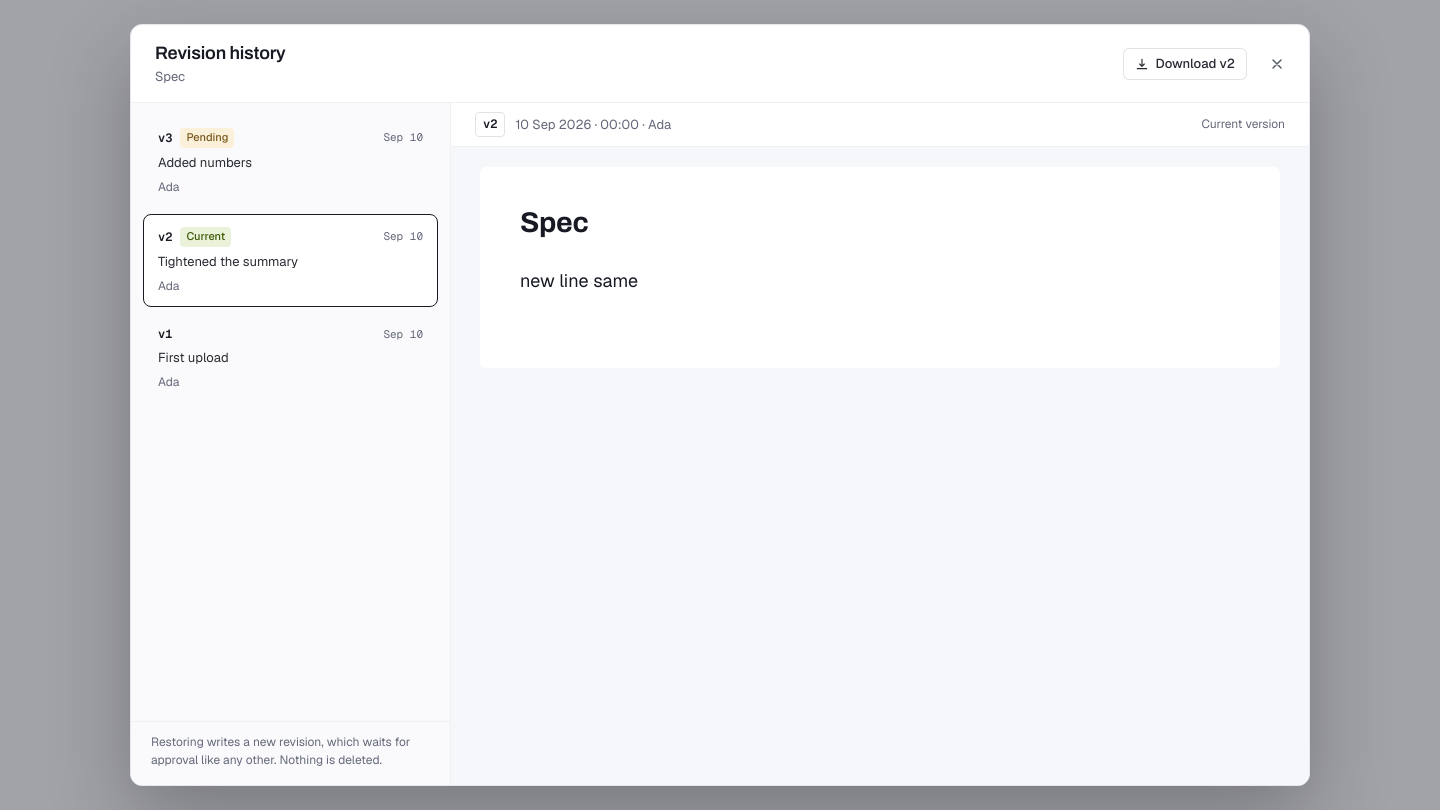
it: HistoryDialog › says a restore is current at once when the server published it, as a Personal Workspace does
Click the button "v1 Sep 10 First upload Ada" at (403, 334), box [143, 313, 438, 404]
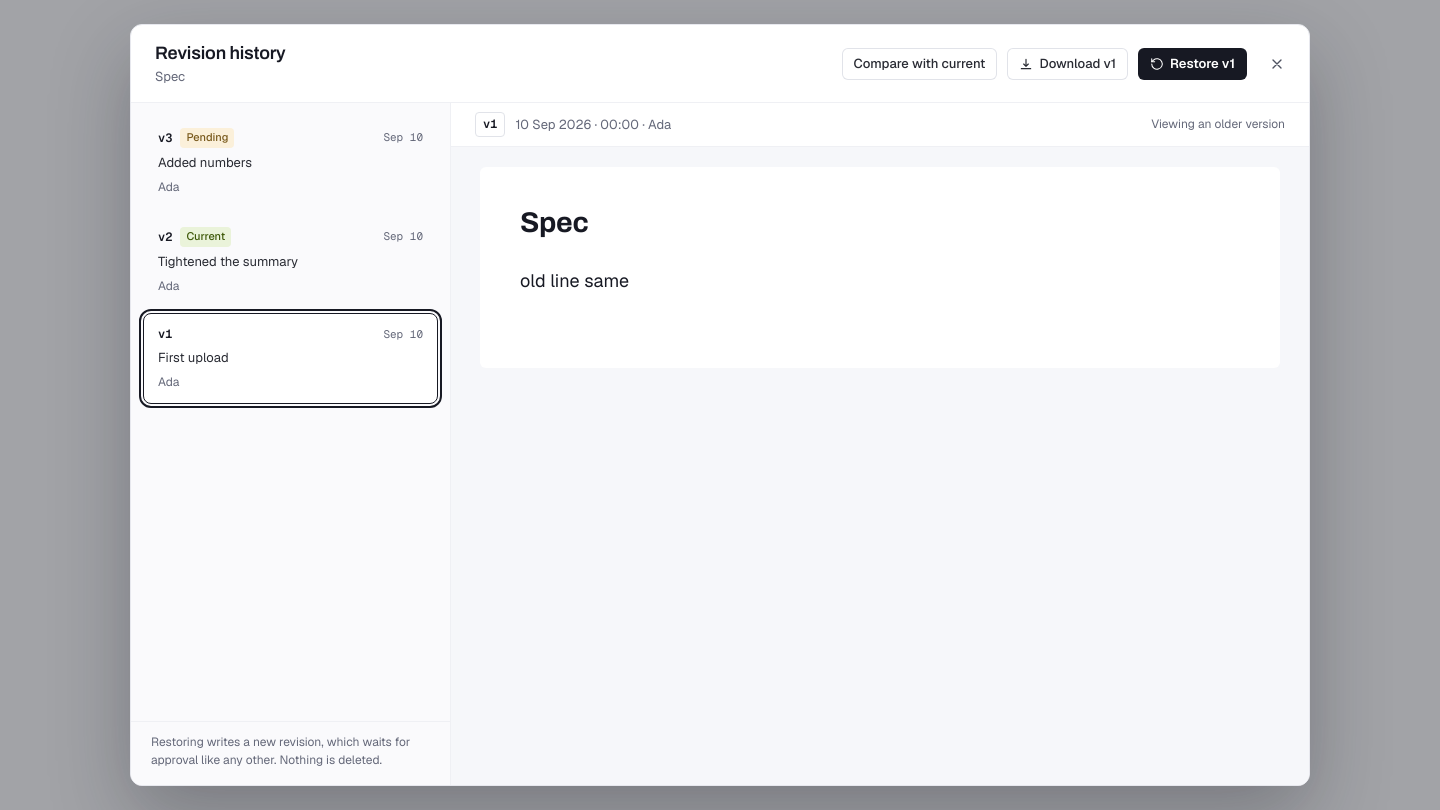
Click the button "Restore v1" at (1193, 64), box [1138, 48, 1247, 80]
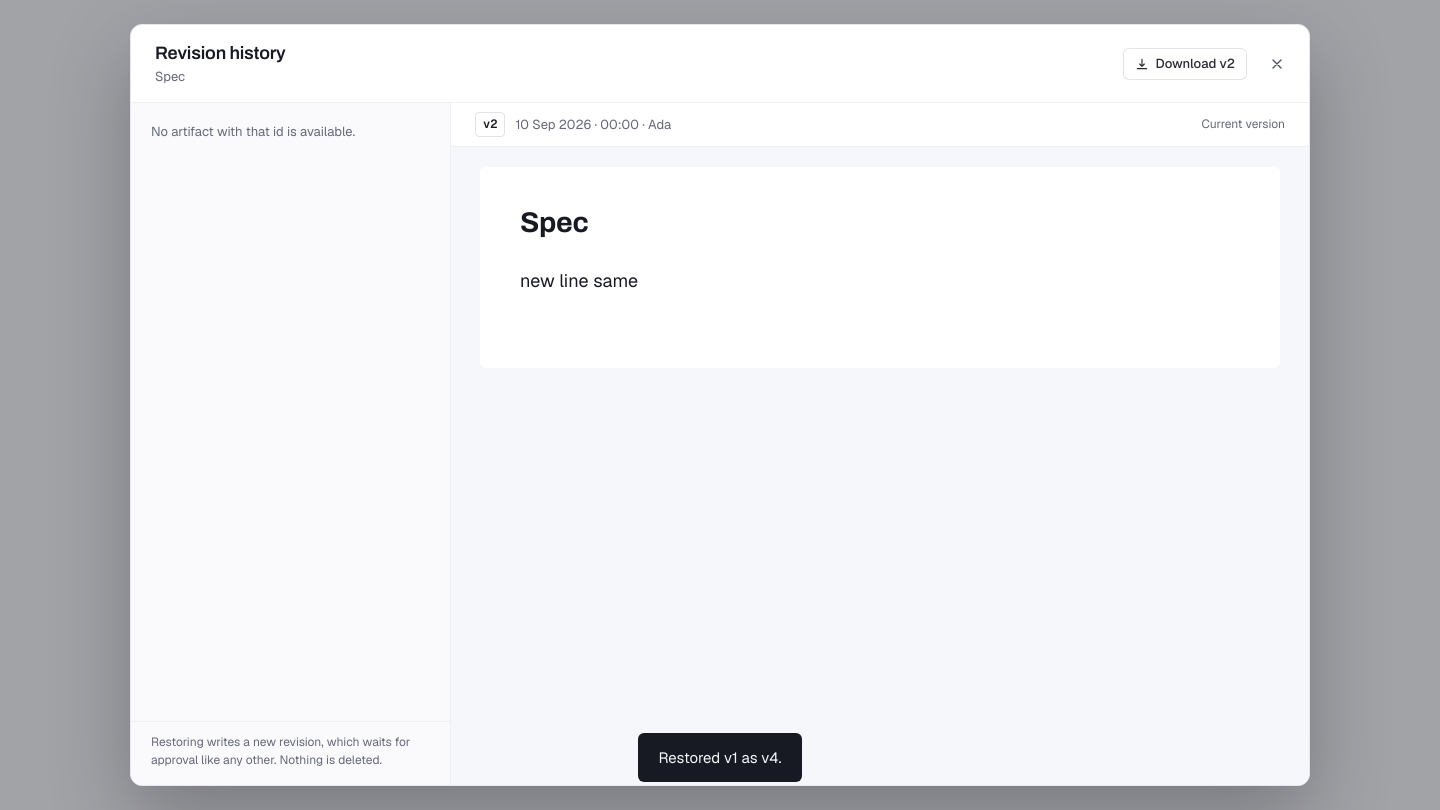
Result: the message "Restored v1 as v4." is shown at [638, 733, 802, 782]
